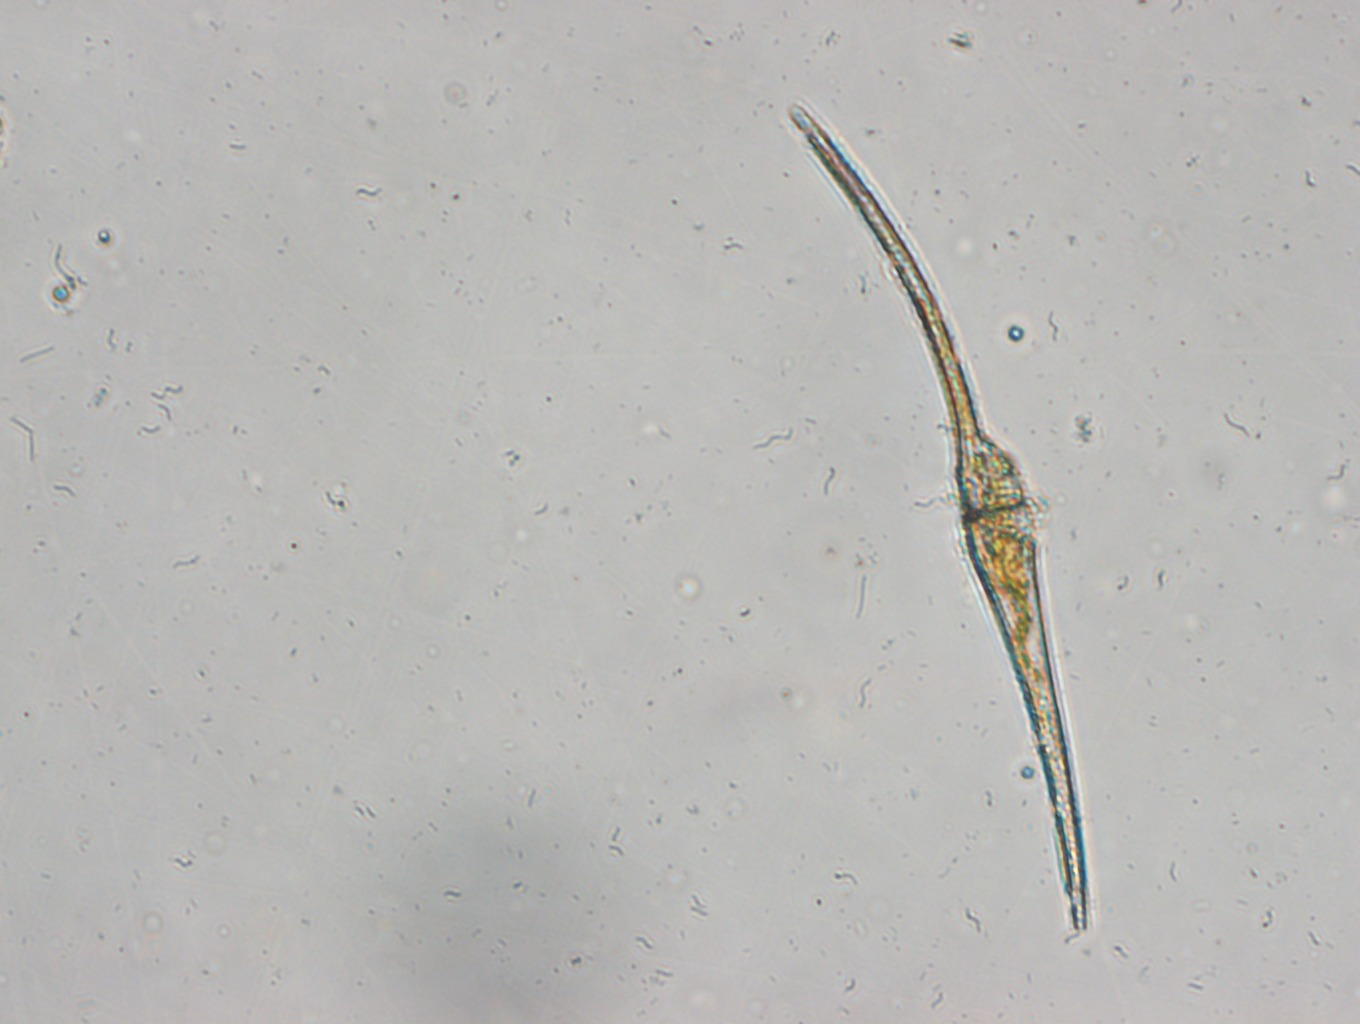ceratium fusus: (784, 96, 1099, 949)
